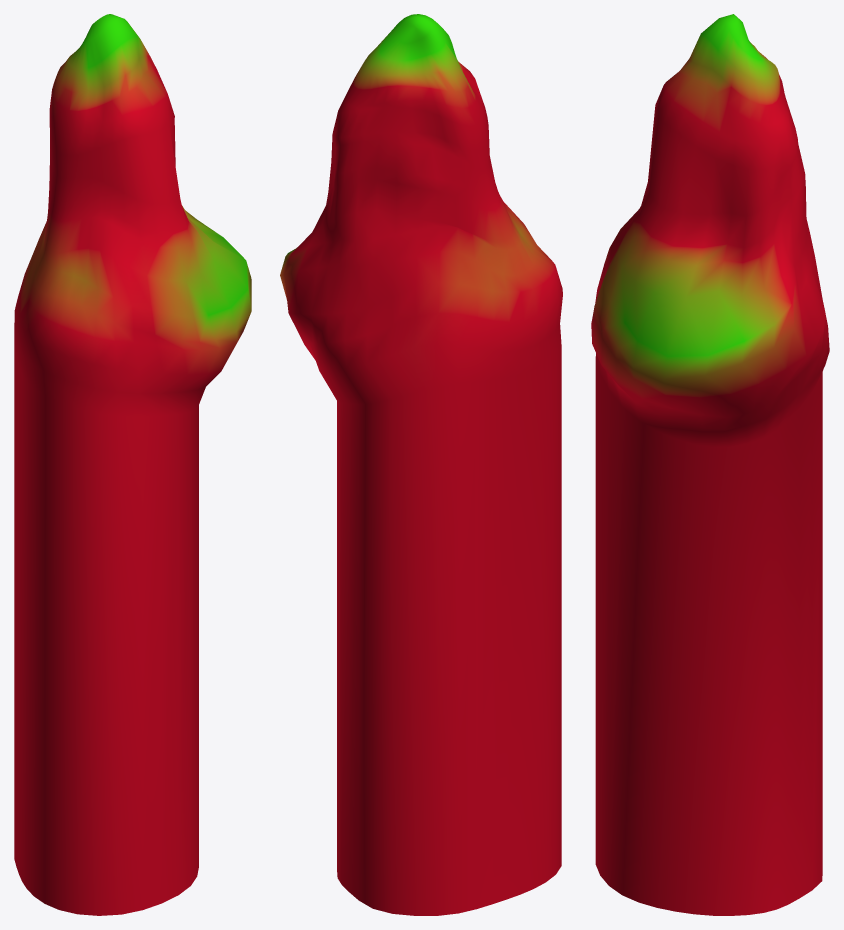
File: AO Crag 1.fbx
3 renders of one model, left to right at view 1: azimuth 30°, elevation 25°; view 2: azimuth 150°, elevation 25°; view 3: azimuth 270°, elevation 25°, orthographic. The views are drawn at different scales.
Visible parts, largest first — view 1: Crag; view 2: Crag; view 3: Crag.
Part boxes in pixels (box(x1,y1,x2,y2)): Crag: box(14, 14, 251, 915); Crag: box(280, 14, 562, 915); Crag: box(591, 14, 829, 915).
Size of the model in its own units: 6398 by 22104 by 5526.
